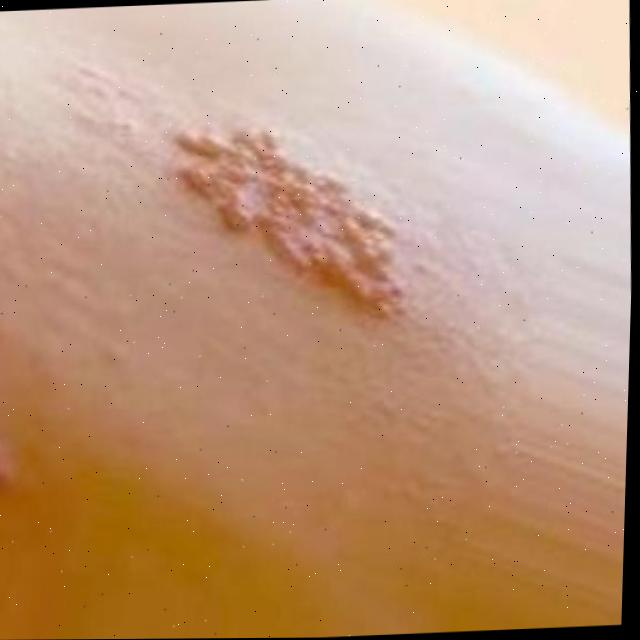Shingles: (164, 117, 427, 329)
